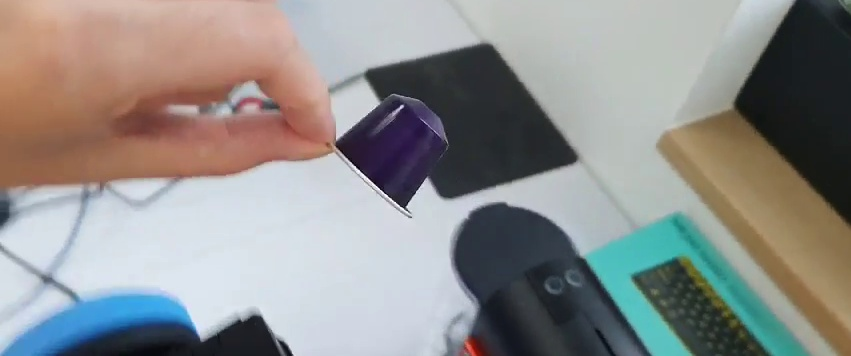capsule_11: (327, 90, 451, 220)
